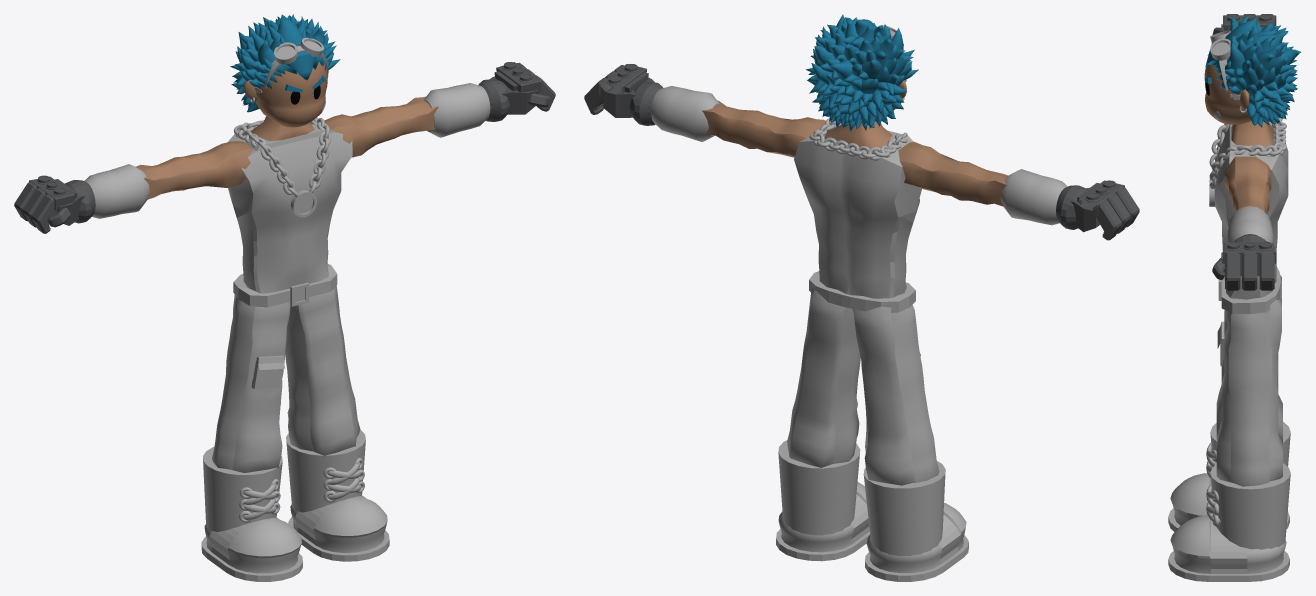
File: MAIN CHARACTER MODEL TEMPORARY.fbx
The picture shows the model from 3 angles, left to right: view 1: azimuth 30°, elevation 25°; view 2: azimuth 150°, elevation 25°; view 3: azimuth 270°, elevation 25°; orthographic projection. The views are drawn at different scales.
Visible parts, largest first — view 1: polySurface562, polySurface418, polySurface473, pasted__polySurface71, pasted__polySurface101, polySurface459, polySurface613, polySurface482, polySurface526, polySurface553, polySurface544, polySurface551 (+3 smaller); view 2: polySurface562, polySurface418, polySurface473, pasted__polySurface71, polySurface459, pasted__polySurface101, polySurface613, polySurface526, polySurface482, polySurface553, polySurface551, polySurface538 (+2 smaller); view 3: pasted__polySurface101, polySurface473, polySurface459, polySurface562, polySurface538, pasted__polySurface71, polySurface526, polySurface444, polySurface544, polySurface482, polySurface418, polySurface409 (+2 smaller).
Part boxes in pixels (x1=…): polySurface562: x1=228, y1=122, x2=352, y2=307; polySurface418: x1=212, y1=294, x2=290, y2=472; polySurface473: x1=285, y1=286, x2=360, y2=456; pasted__polySurface71: x1=201, y1=447, x2=302, y2=581; pasted__polySurface101: x1=286, y1=429, x2=389, y2=561; polySurface459: x1=230, y1=14, x2=340, y2=112; polySurface613: x1=135, y1=141, x2=253, y2=199; polySurface482: x1=424, y1=79, x2=509, y2=137; polySurface526: x1=324, y1=96, x2=438, y2=157; polySurface553: x1=65, y1=164, x2=149, y2=223; polySurface544: x1=255, y1=61, x2=327, y2=127; polySurface551: x1=14, y1=175, x2=85, y2=233; polySurface562: x1=794, y1=123, x2=921, y2=312; polySurface418: x1=852, y1=305, x2=939, y2=485; polySurface473: x1=787, y1=288, x2=860, y2=467; pasted__polySurface71: x1=863, y1=461, x2=968, y2=581; polySurface459: x1=806, y1=14, x2=918, y2=131; pasted__polySurface101: x1=776, y1=440, x2=869, y2=561; polySurface613: x1=898, y1=142, x2=1007, y2=206; polySurface526: x1=702, y1=100, x2=825, y2=157; polySurface482: x1=629, y1=81, x2=720, y2=141; polySurface553: x1=1000, y1=169, x2=1087, y2=229; polySurface551: x1=1070, y1=180, x2=1139, y2=240; polySurface538: x1=584, y1=64, x2=654, y2=117; pasted__polySurface101: x1=1168, y1=463, x2=1290, y2=581; polySurface473: x1=1216, y1=297, x2=1282, y2=486; polySurface459: x1=1205, y1=15, x2=1300, y2=127; polySurface562: x1=1214, y1=122, x2=1288, y2=314; polySurface538: x1=1212, y1=241, x2=1276, y2=290; pasted__polySurface71: x1=1168, y1=421, x2=1290, y2=531; polySurface526: x1=1224, y1=156, x2=1271, y2=214; polySurface444: x1=1209, y1=117, x2=1286, y2=188; polySurface544: x1=1204, y1=58, x2=1251, y2=124; polySurface482: x1=1227, y1=206, x2=1273, y2=242; polySurface418: x1=1216, y1=275, x2=1282, y2=441; polySurface409: x1=1231, y1=121, x2=1274, y2=150.
Bounding box in the file's own units: 19.85 × 19.18 × 4.41.
